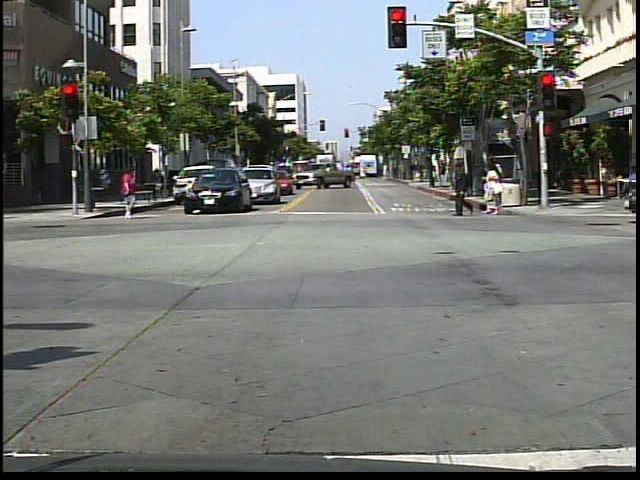person: (452, 158, 483, 222), (480, 157, 506, 221), (117, 164, 140, 221), (618, 155, 640, 199)
